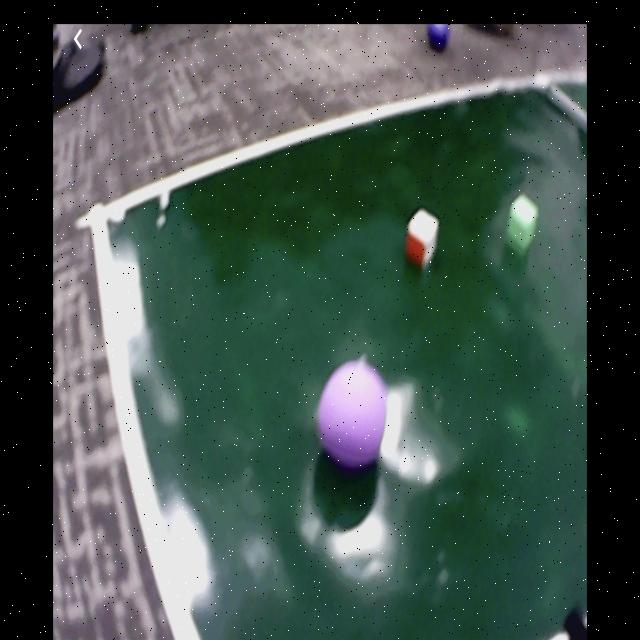ball: (322, 362, 388, 465), (429, 25, 449, 52)
